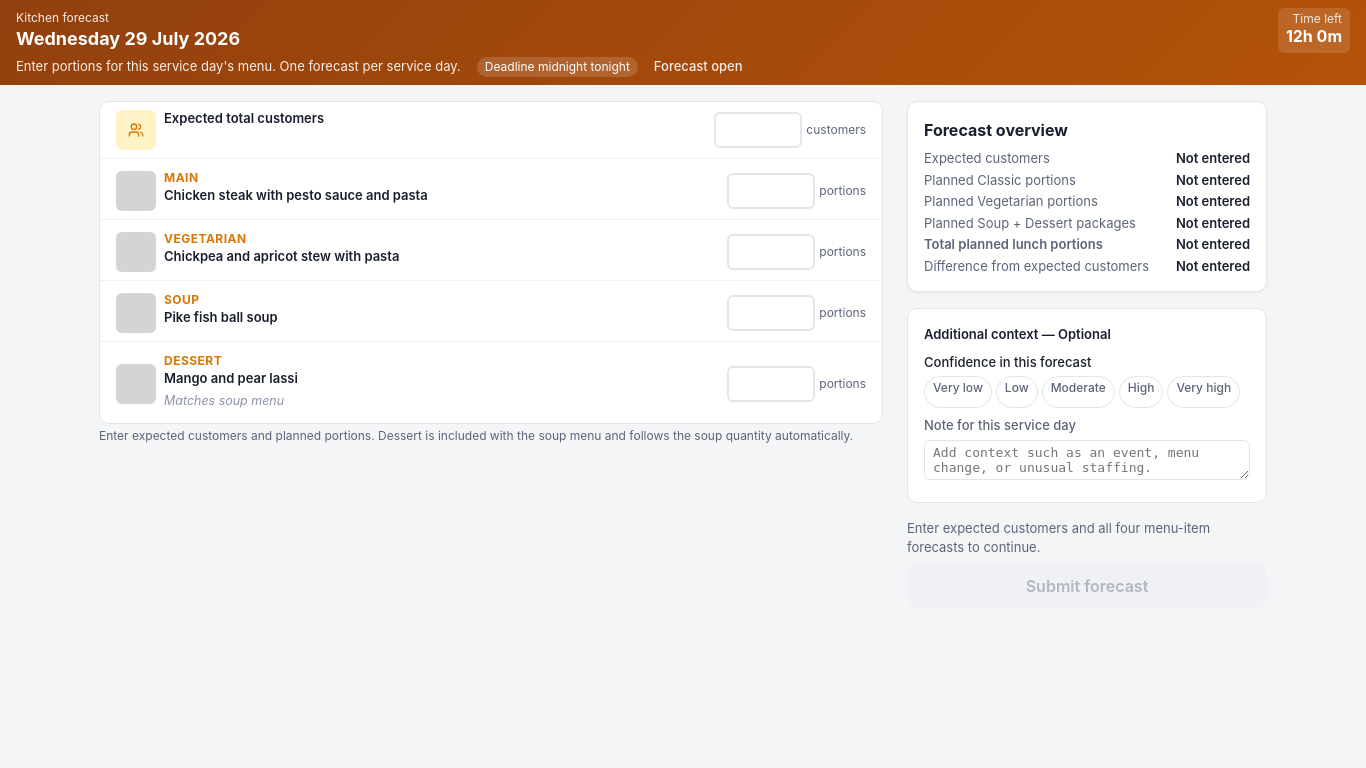
Test case: chef forecast UX › accepts explicit zero as valid
The image size is (1366, 768).
Type "0" into the field labelled "Expected total customers" at (758, 130), box [714,112,802,148]
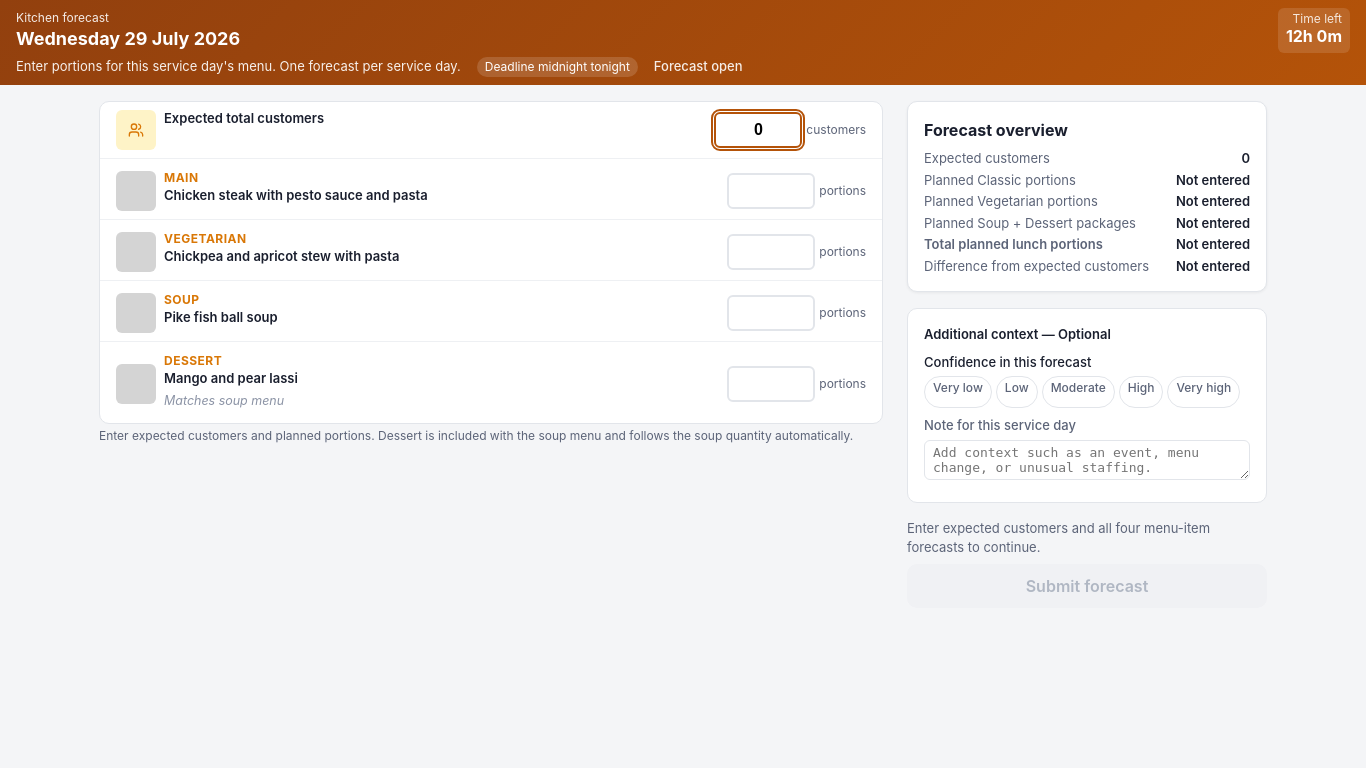
Type "0" into the field in the row of "Chicken steak with pesto sauce and pasta" at (771, 191), box [727,173,815,209]
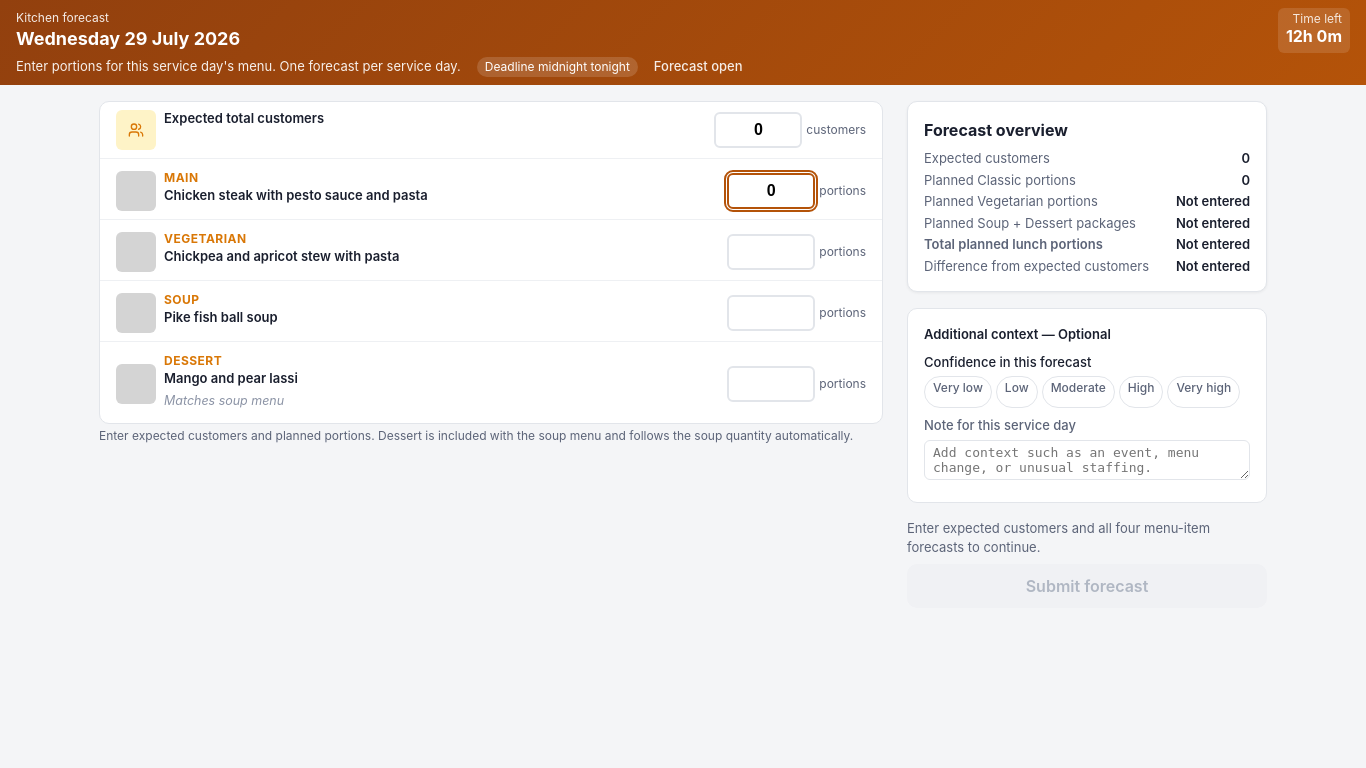
Type "0" into the field in the row of "Chickpea and apricot stew with pasta" at (771, 252), box [727,234,815,270]
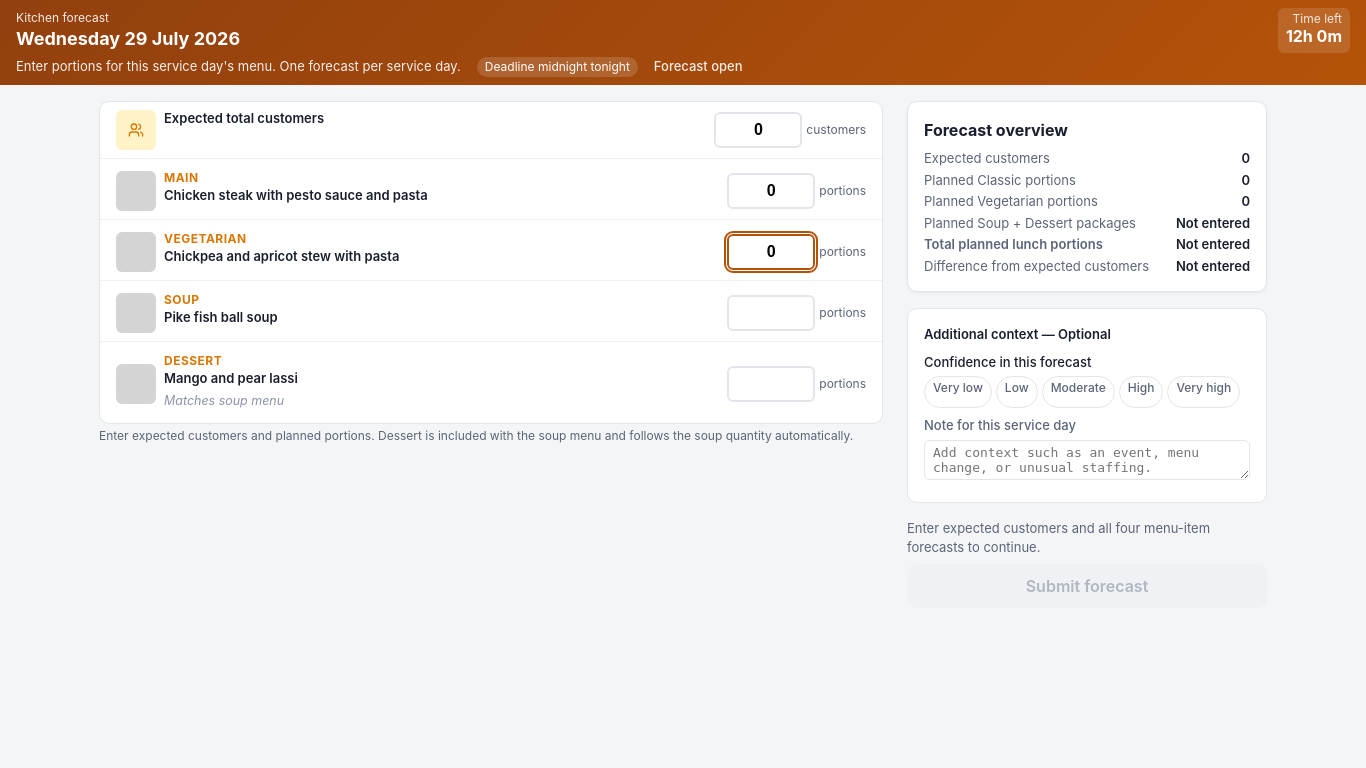
Type "0" into the field in the row of "Pike fish ball soup" at (771, 313), box [727,295,815,331]
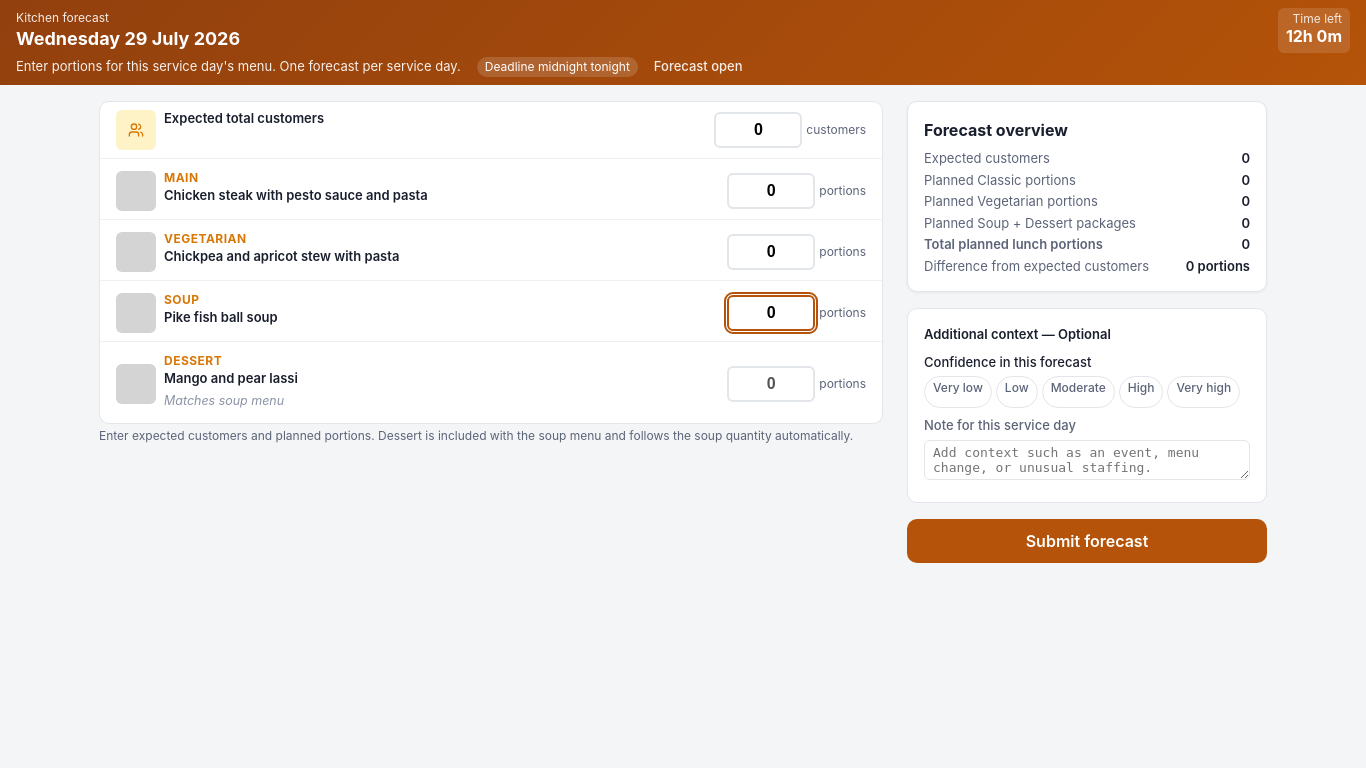
Expected: the button "Submit forecast" is enabled, [907,519,1267,563]
